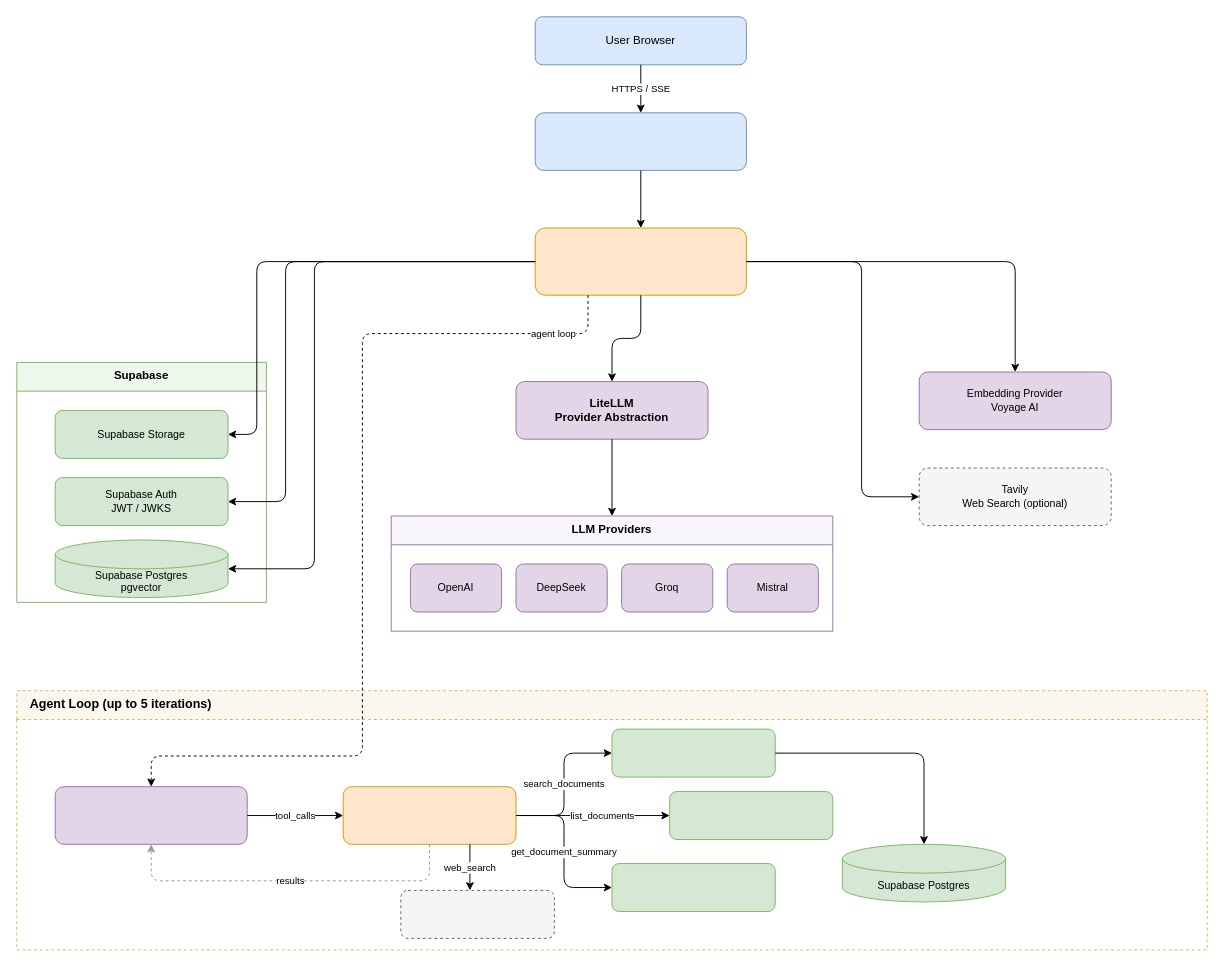
This 1224x967 diagram has some shape labels left out. Each missing label, with the centre of its shape:
"Backend API EC2 t4g · Docker" goes at point (640, 261).
"Doc Summary" goes at point (693, 887).
"Document List" goes at point (751, 815).
"Frontend S3 + CloudFront" goes at point (640, 141).
"Hybrid RAG" goes at point (693, 752).
"stream_completion" goes at point (150, 815).
"Tavily API" goes at point (477, 913).
"Tool Dispatch" goes at point (429, 815).
